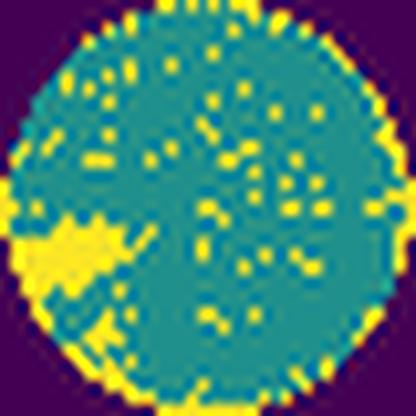Loc: (10, 209, 166, 332), (86, 312, 128, 352)
